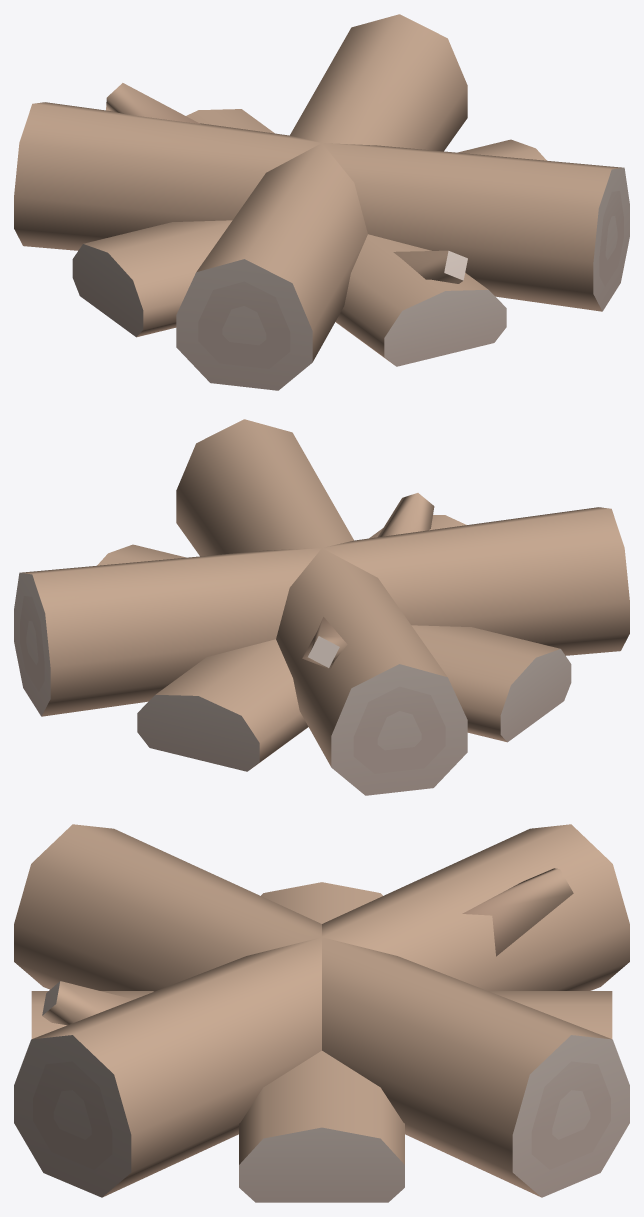
File: logs-long.glb
3 renders of one model, top to bottom at view 1: azimuth 30°, elevation 25°; view 2: azimuth 150°, elevation 25°; view 3: azimuth 270°, elevation 25°, orthographic. The views are drawn at different scales.
Visible parts, largest first — view 1: logs-long; view 2: logs-long; view 3: logs-long.
Part boxes in pixels (x1,y1,x2,y2): logs-long: (14, 14, 629, 390); logs-long: (14, 419, 629, 795); logs-long: (14, 824, 629, 1202).
Bounding box in the file's own units: 0.3712 × 0.1029 × 0.3712.
